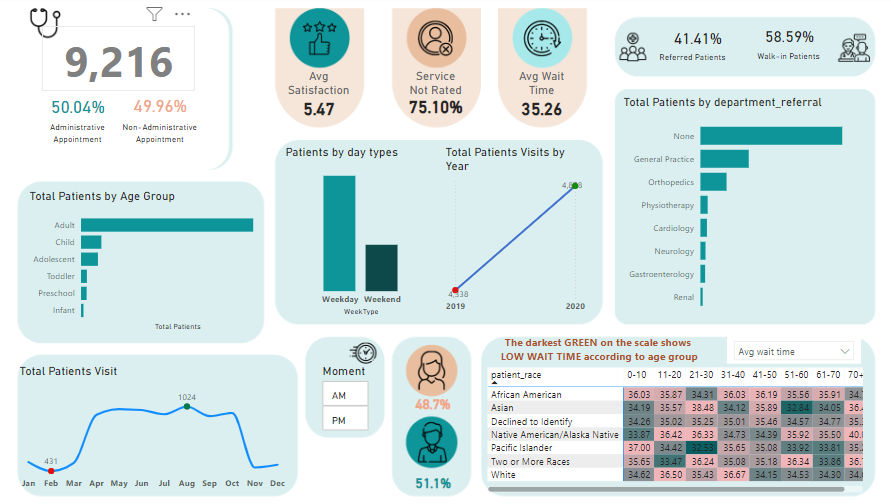

The page's visual inventory and layout, read from the dashboard file:
{"tool":"powerbi","page":{"name":"Page 1","canvas":[1280,720],"ordinal":0},"visuals":[{"type":"card","fields":{"Values":["Calculation.Total Patients"]},"box":[65.4,42.3,217.3,92.3],"z":0},{"type":"card","fields":{"Values":["Calculation.% Administrative Schedule"]},"box":[64.7,138.9,100.5,36],"z":1000},{"type":"card","fields":{"Values":["Calculation.% Non Administrative Schedule"]},"box":[182.7,140.4,100,30.8],"z":2000},{"type":"pivotTable","fields":{"Values":["Calculation.Average wait time"],"Rows":["Hospital dataset.patient_race"],"Columns":["Hospital dataset.Age ranges"]},"box":[692.3,521.2,542.3,186.5],"z":3000},{"type":"slicer","fields":{"Values":["Parameter.Parameter"]},"box":[1036.5,478.8,190.4,42.3],"z":4000},{"type":"clusteredBarChart","fields":{"Category":["Hospital dataset.Age Group"],"Y":["Calculation.Total Patients"]},"box":[42.3,273.1,357.7,205.8],"z":5000},{"type":"lineChart","title":"Total Patients Visit","fields":{"Category":["Date.Month"],"Y":["Calculation.Total Patients","Calculation.Values MAX POINT (Month)"]},"box":[28.8,521.2,388.5,186.5],"z":6000},{"type":"advancedSlicerVisual","fields":{"Values":["Hospital dataset.Moment"]},"box":[457.7,521.2,75,100],"z":7000},{"type":"lineChart","title":"Total Patients Visits by Year","fields":{"Category":["Date.Year"],"Y":["Calculation.Total Patients","Calculation.Values MAX POINT (Year)"]},"box":[632.7,211.5,207.7,246.2],"z":8000},{"type":"clusteredBarChart","fields":{"Y":["Calculation.Total Patients"],"Category":["Hospital dataset.department_referral"]},"box":[884.6,140.4,342.3,317.3],"z":9000},{"type":"card","fields":{"Values":["Calculation.% Referred Patients"]},"box":[925,42.3,138.5,34.6],"z":10000},{"type":"card","fields":{"Values":["Calculation.% Un Referred Patients"]},"box":[1064,41.4,120,33],"z":11000},{"type":"card","fields":{"Values":["Calculation.HitMap Caption"]},"box":[692.3,465.4,326.9,69.2],"z":12000},{"type":"textbox","box":[64.7,171.9,100.5,43.5],"z":13000},{"type":"textbox","box":[165.4,171.2,132.7,46.2],"z":14000},{"type":"card","title":"Avg Satisfaction","fields":{"Values":["Calculation.Average Satisfaction Score"]},"box":[405.8,103.8,103.8,75],"z":15000},{"type":"card","title":"Avg Wait Time","fields":{"Values":["Calculation.Average wait time"]},"box":[721.2,103.8,103.8,75],"z":16000},{"type":"card","title":"Service Not Rated","fields":{"Values":["Calculation.% No Rating"]},"box":[576.9,103.8,92.3,69.2],"z":17000},{"type":"textbox","box":[1058,71.4,132.1,28.5],"z":18000},{"type":"textbox","box":[924.4,72.9,126,28.5],"z":19000},{"type":"clusteredColumnChart","title":"Patients by day types","fields":{"Y":["Calculation.Total Patients"],"Category":["Date.WeekType"]},"box":[405.8,211.5,225,246.2],"z":20000},{"type":"card","fields":{"Values":["Calculation.% Female Visits"]},"box":[576.9,565.4,84.6,26.9],"z":21000},{"type":"card","fields":{"Values":["Calculation.% Male Visits"]},"box":[576.9,673.1,84.6,34.6],"z":22000}]}

Visuals, with their boxes in screenshot pixels (x1, y1, x2, y2), scaled from the page's 1280x720 canvas onto the 891x504 screenshot:
card - Calculation.Total Patients: (46, 30, 197, 94)
card - Calculation.% Administrative Schedule: (45, 97, 115, 122)
card - Calculation.% Non Administrative Schedule: (127, 98, 197, 120)
pivotTable - Calculation.Average wait time x Hospital dataset.patient_race: (482, 365, 859, 495)
slicer - Parameter.Parameter: (722, 335, 854, 365)
clusteredBarChart - Hospital dataset.Age Group x Calculation.Total Patients: (29, 191, 278, 335)
"Total Patients Visit" lineChart: (20, 365, 290, 495)
advancedSlicerVisual - Hospital dataset.Moment: (319, 365, 371, 435)
"Total Patients Visits by Year" lineChart: (440, 148, 585, 320)
clusteredBarChart - Calculation.Total Patients x Hospital dataset.department_referral: (616, 98, 854, 320)
card - Calculation.% Referred Patients: (644, 30, 740, 54)
card - Calculation.% Un Referred Patients: (741, 29, 824, 52)
card - Calculation.HitMap Caption: (482, 326, 709, 374)
textbox: (45, 120, 115, 151)
textbox: (115, 120, 208, 152)
"Avg Satisfaction" card: (282, 73, 355, 125)
"Avg Wait Time" card: (502, 73, 574, 125)
"Service Not Rated" card: (402, 73, 466, 121)
textbox: (736, 50, 828, 70)
textbox: (643, 51, 731, 71)
"Patients by day types" clusteredColumnChart: (282, 148, 439, 320)
card - Calculation.% Female Visits: (402, 396, 460, 415)
card - Calculation.% Male Visits: (402, 471, 460, 495)
